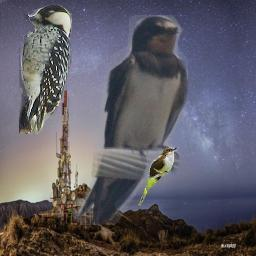Cuckoo: (138, 147, 178, 206)
Swallow: (77, 15, 188, 225)
Woodpecker: (19, 4, 72, 134)
